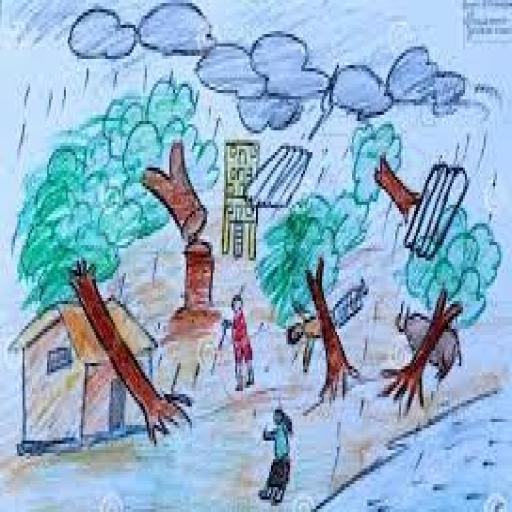person: (286, 268, 374, 375), (206, 288, 269, 399), (253, 401, 304, 512)
